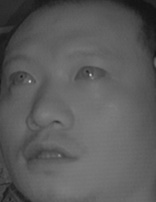eye: (73, 62, 108, 84), (6, 66, 38, 89)
mouth: (18, 134, 83, 173)
